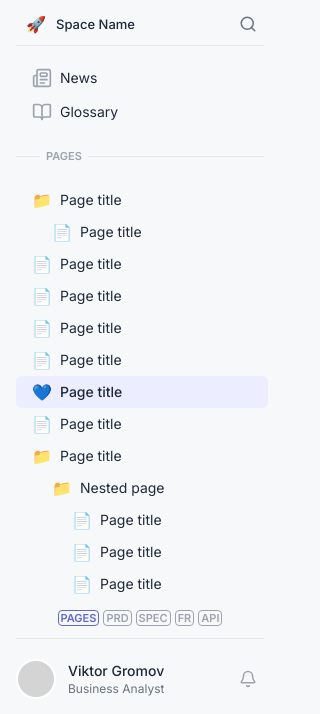
Test: LeftSidebar › Collection Name Divider › does not show Settings button for PAGES collection
The image size is (320, 714).
Step 1. Hover over the element with class "collection-name-divider" → point(64, 156), box x1=46 y1=149 x2=82 y2=163
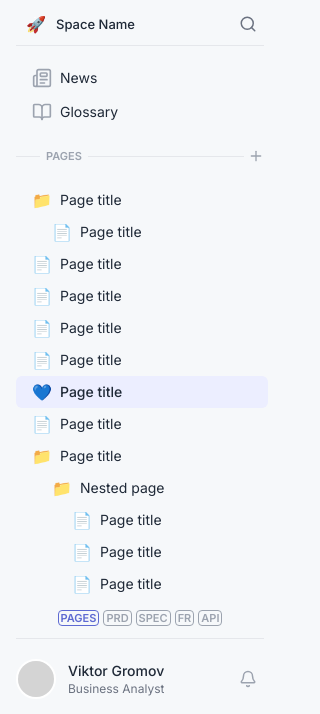
Result: the button named "Add page" is shown at x1=248 y1=148 x2=264 y2=164
